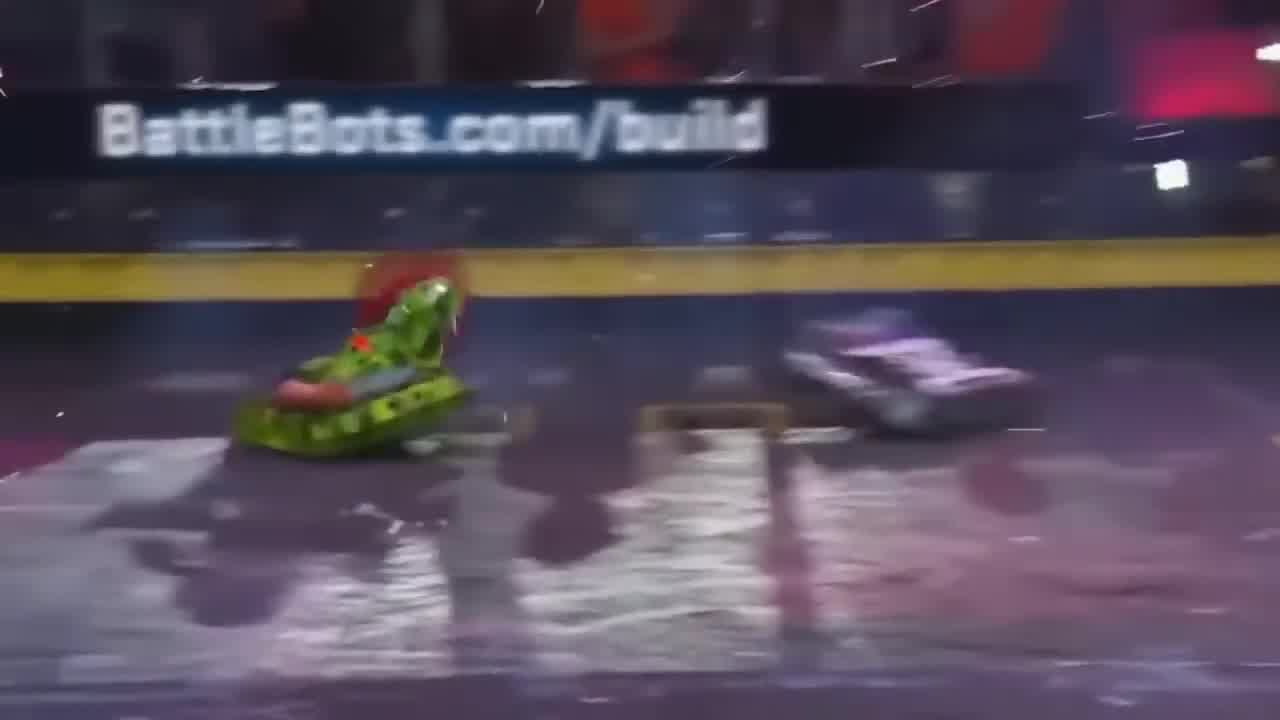combatbot: (228, 259, 513, 465), (779, 313, 1041, 447)
